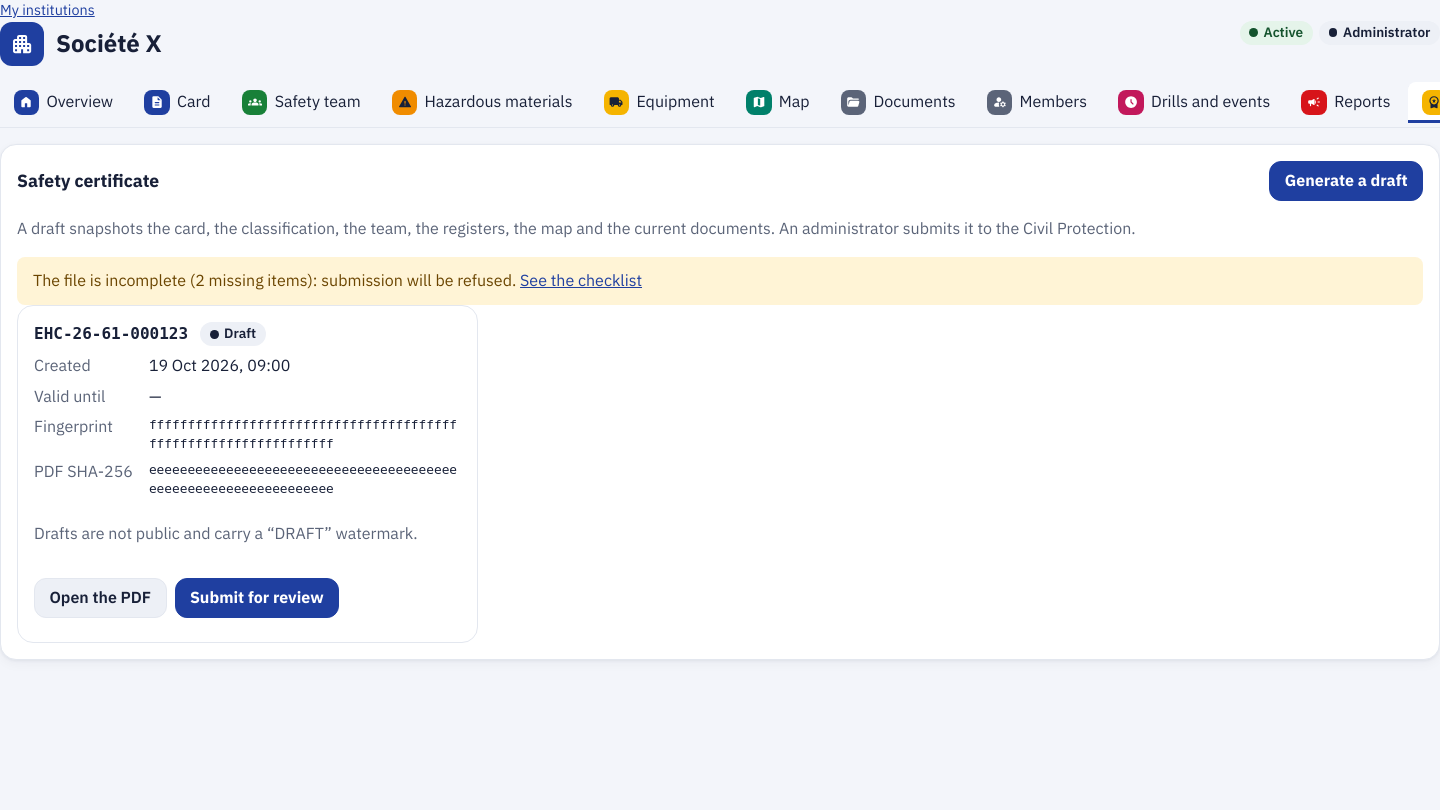
Scenario: certificate (FR-B-008) › shows completeness.missing when submission answers 409 incomplete
Click the button "Submit for review".
click(257, 598)  # box [174,578,339,618]
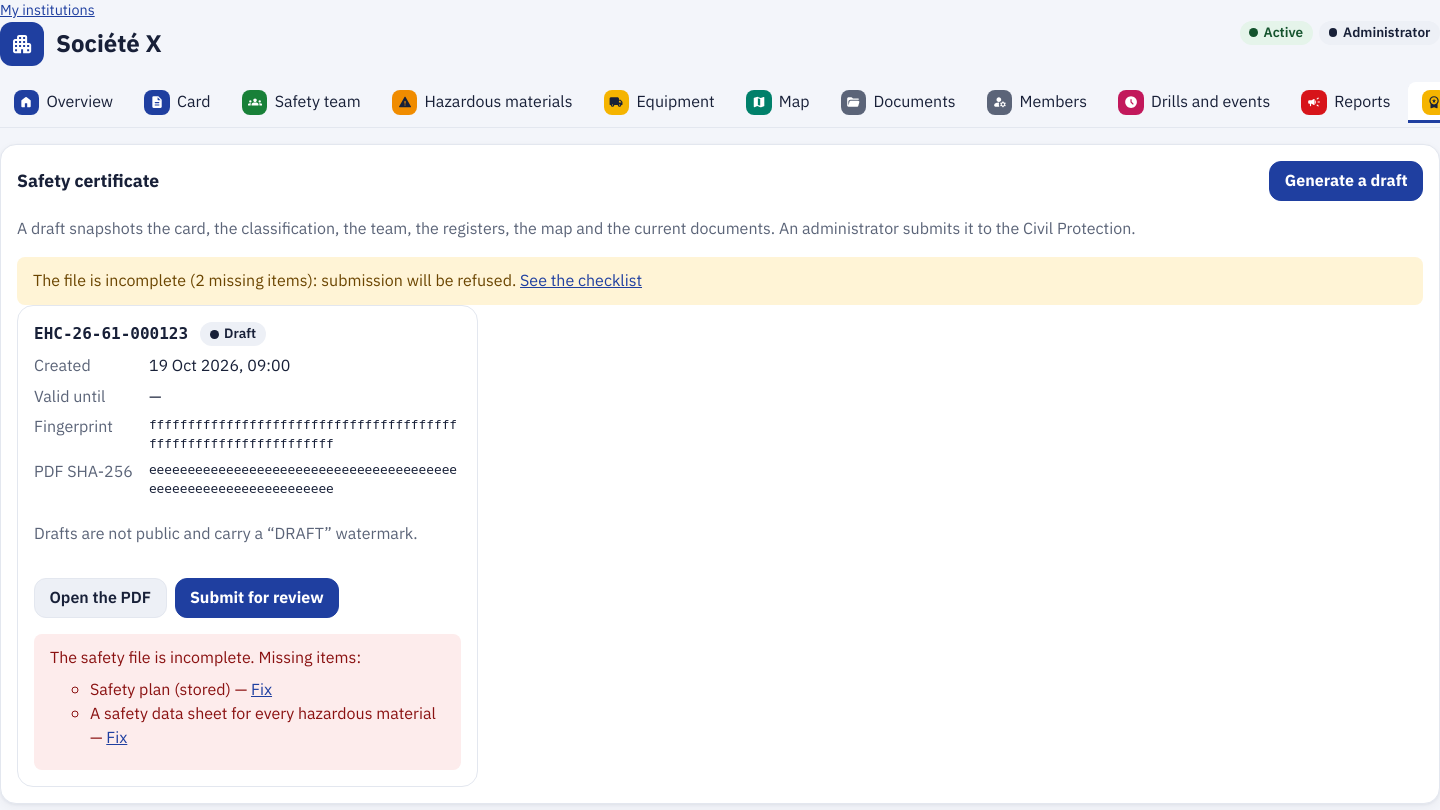
Result: the list item "Safety plan (stored) — Fix" is shown at [90,678,272,702]
Result: the list item "A safety data sheet for every hazardous material — Fix" is shown at [90,702,445,750]
